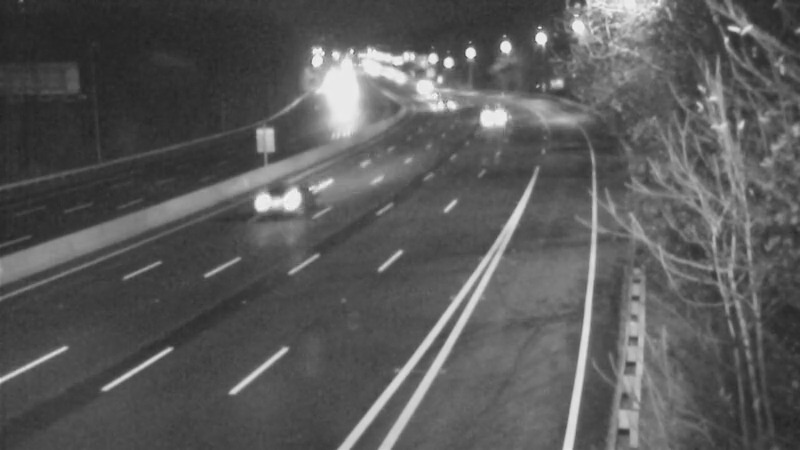vehicle: (234, 172, 314, 252), (399, 62, 449, 112), (406, 73, 456, 123), (421, 79, 471, 129), (467, 93, 517, 143), (310, 77, 360, 127)
